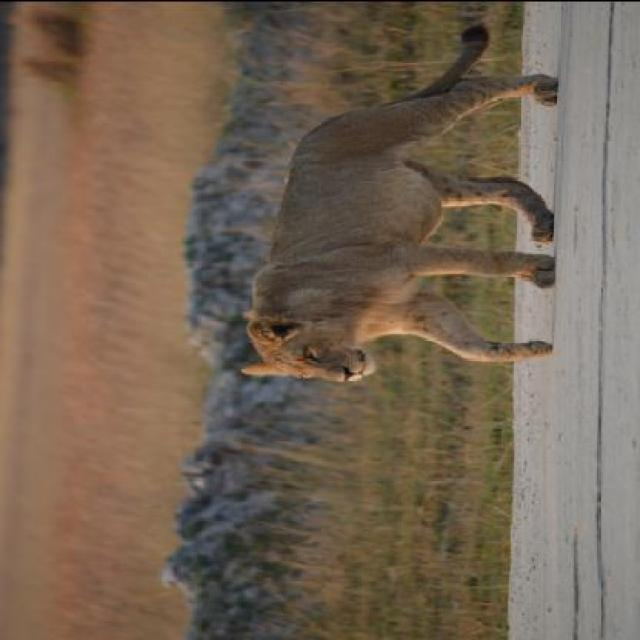Lion: (238, 20, 574, 386)
